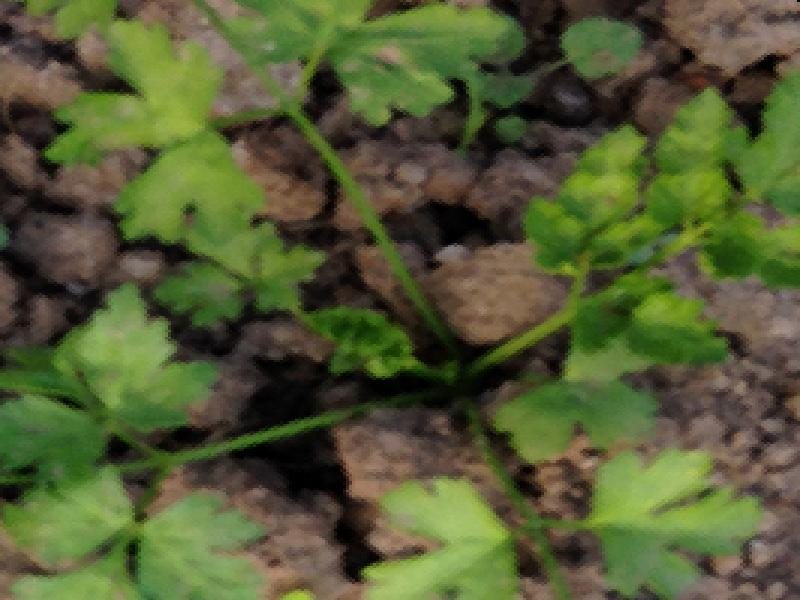radish: (0, 5, 800, 600)
